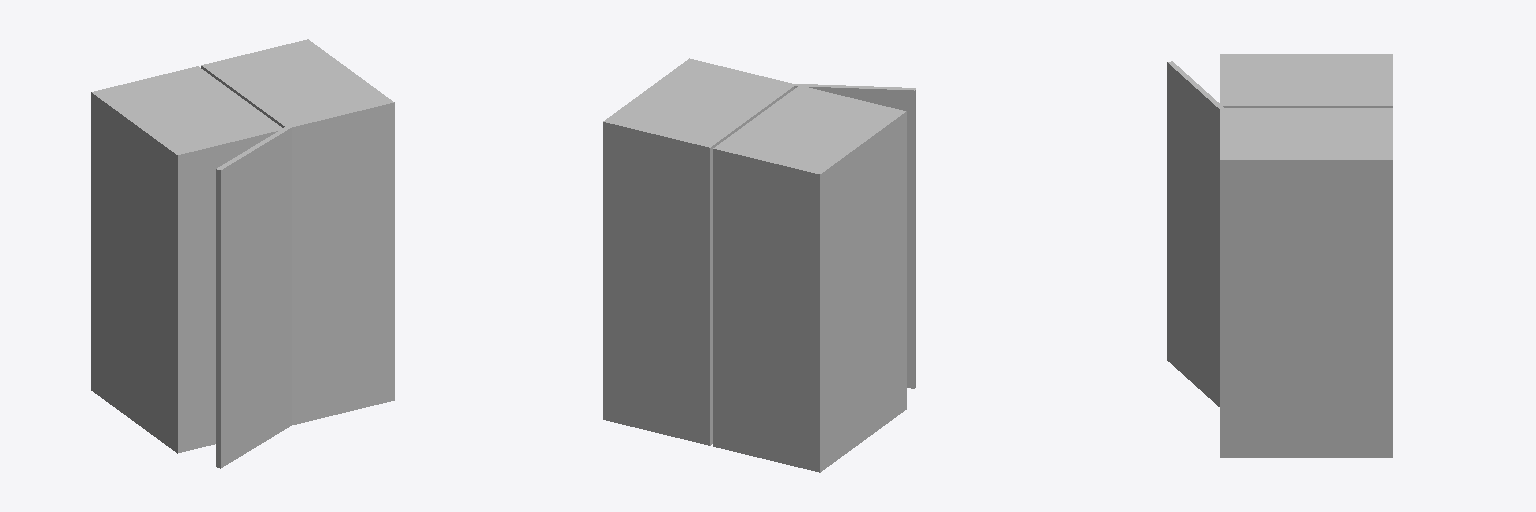
Rendered from exchangers.obj.
3 views of the same model, side by side, from view 1: azimuth 30°, elevation 25°; view 2: azimuth 150°, elevation 25°; view 3: azimuth 270°, elevation 25° (orthographic).
Visible parts, largest first — view 1: Cube.003; view 2: Cube.003; view 3: Cube.003.
Part boxes in pixels (bbox=[...]): Cube.003: bbox=[91, 39, 394, 468]; Cube.003: bbox=[603, 58, 915, 472]; Cube.003: bbox=[1167, 54, 1392, 457].
Size of the model in its own units: 1.92 by 2.52 by 1.73.